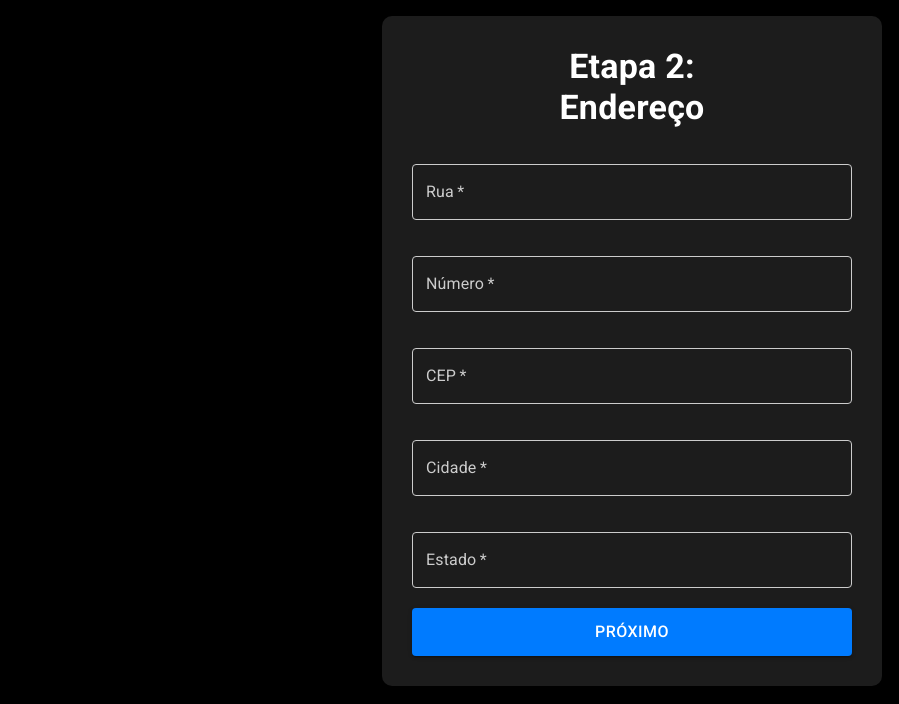
Test case: Step2 Component › displays error snackbar when fields are empty
The width and height of the screenshot is (899, 704).
Step 1. Click the button "Próximo" → (632, 632), box [412,608,852,656]
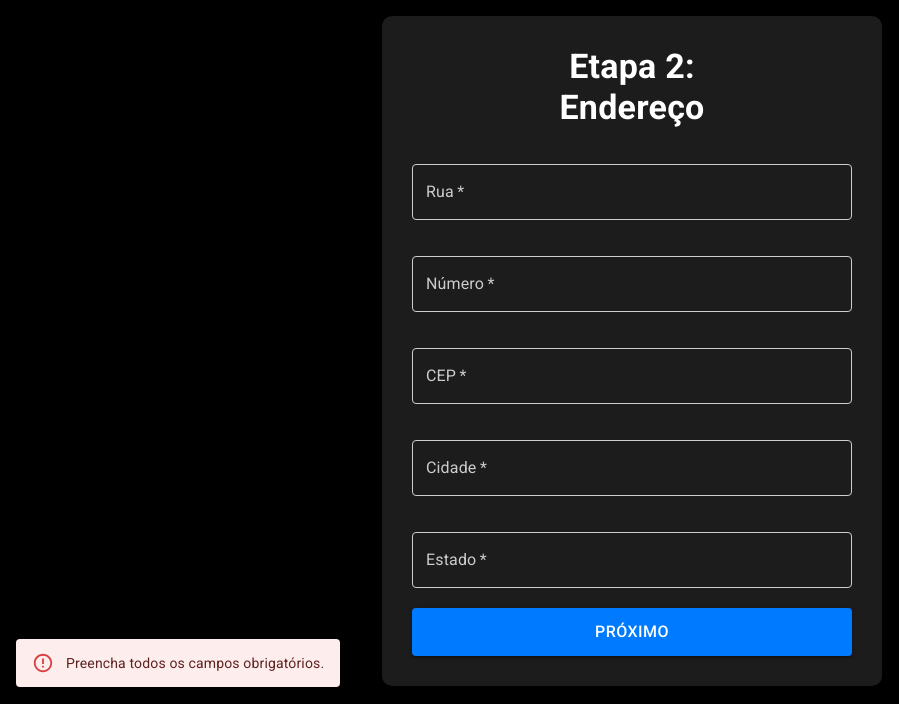
Check: the text "Preencha todos os campos obrigatórios." is shown, box [66,655,324,671]
